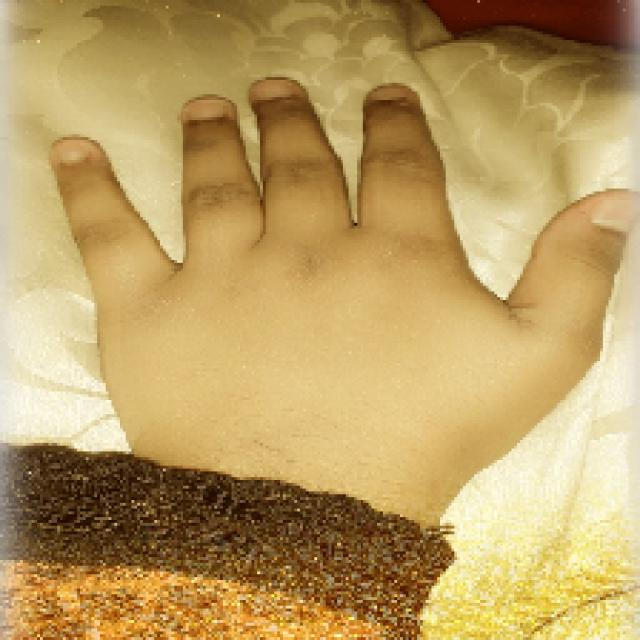Nail: (591, 190, 639, 233), (54, 137, 89, 165), (192, 95, 228, 119), (256, 79, 296, 98), (376, 84, 408, 100)
